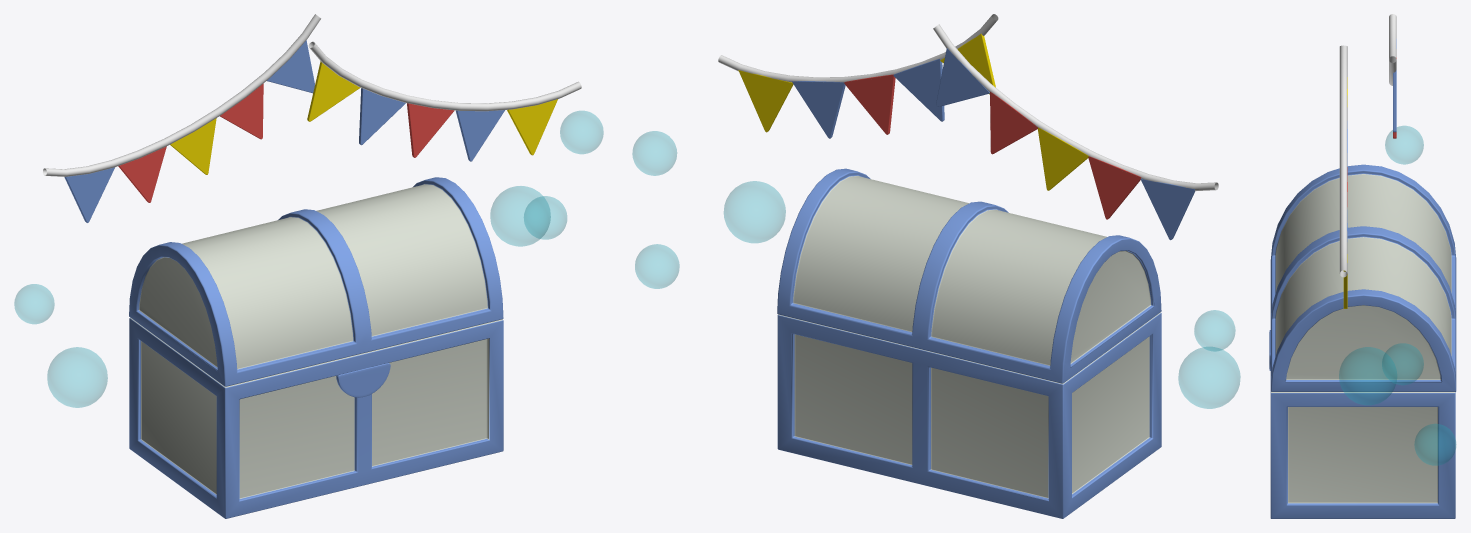
The picture shows the model from 3 angles, left to right: view 1: azimuth 30°, elevation 25°; view 2: azimuth 150°, elevation 25°; view 3: azimuth 270°, elevation 25°; orthographic projection. The views are drawn at different scales.
Parts seen in each view (by area): view 1: Cylinder, Cube, Sphere, Sphere.002, Plane.001, BézierCurve.004, Plane.002, Plane.019, Plane.018, BézierCurve.001, Sphere.004, Sphere.003 (+4 smaller); view 2: Cylinder, Cube, Plane.018, Plane.019, Plane.002, Sphere, Sphere.002, Plane.001, BézierCurve.004, Plane.003, Plane.017, Sphere.003 (+3 smaller); view 3: Cylinder, Cube, Sphere.002, BézierCurve.001, Sphere.004, Sphere.003, Sphere.001, BézierCurve.004, Plane.019.
Part boxes in pixels (<box>): Cylinder: <box>129,177,503,386</box>; Cube: <box>129,317,503,518</box>; Sphere: <box>47,347,107,407</box>; Sphere.002: <box>490,186,550,246</box>; Plane.001: <box>307,61,557,155</box>; BézierCurve.004: <box>43,14,320,176</box>; Plane.002: <box>359,88,504,161</box>; Plane.019: <box>64,40,314,222</box>; Plane.018: <box>118,83,263,202</box>; BézierCurve.001: <box>308,41,581,111</box>; Sphere.004: <box>560,111,603,153</box>; Sphere.003: <box>524,196,566,239</box>; Cylinder: <box>777,168,1161,383</box>; Cube: <box>777,312,1161,518</box>; Plane.018: <box>990,91,1141,219</box>; Plane.019: <box>936,48,1194,240</box>; Plane.002: <box>792,58,944,138</box>; Sphere: <box>1178,347,1240,408</box>; Sphere.002: <box>724,181,785,242</box>; Plane.001: <box>738,33,995,132</box>; BézierCurve.004: <box>933,24,1218,191</box>; Plane.003: <box>844,74,895,134</box>; Plane.017: <box>1038,127,1088,190</box>; Sphere.003: <box>635,244,679,288</box>; Cylinder: <box>1270,164,1456,391</box>; Cube: <box>1270,391,1455,518</box>; Sphere.002: <box>1339,347,1396,404</box>; BézierCurve.001: <box>1339,45,1347,277</box>; Sphere.004: <box>1382,343,1423,384</box>; Sphere.003: <box>1414,424,1456,465</box>; Sphere.001: <box>1385,126,1423,164</box>; BézierCurve.004: <box>1389,14,1396,85</box>; Plane.019: <box>1393,39,1396,132</box>.
Size of the model in its own units: 1.44 by 0.9953 by 0.4168.
